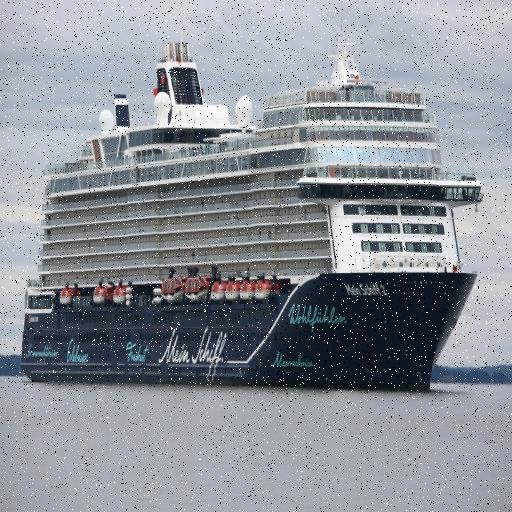cruises: (18, 35, 485, 397)
